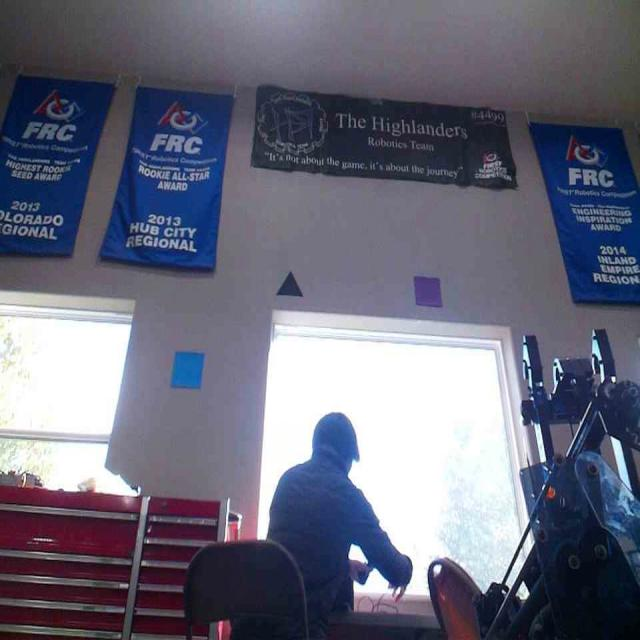square_blue: (169, 350, 206, 388)
square_purple: (412, 273, 444, 306)
triangle_black: (276, 269, 303, 296)
